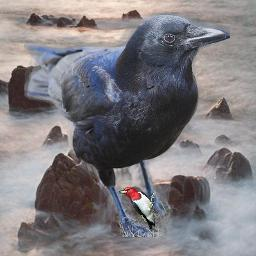Crow: (24, 13, 230, 237)
Woodpecker: (117, 187, 157, 229)
